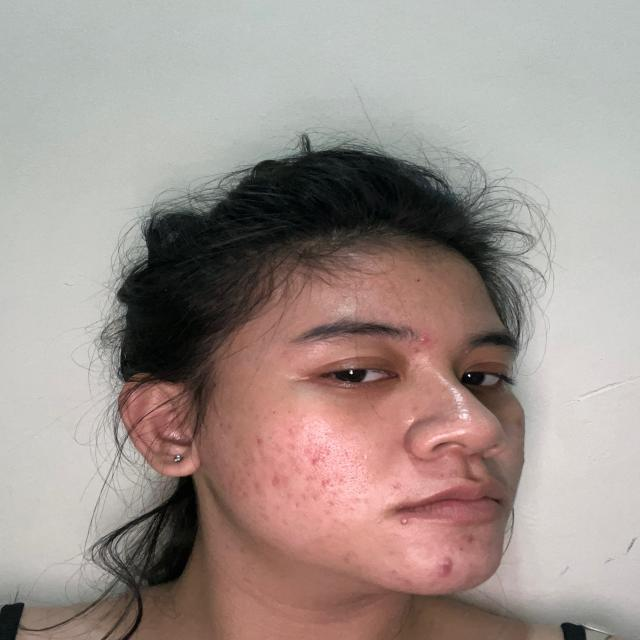Acne: (391, 568, 416, 588), (284, 491, 310, 508), (437, 555, 455, 578), (274, 442, 294, 456), (343, 549, 356, 565), (308, 456, 326, 467), (268, 474, 282, 488), (319, 477, 335, 488), (398, 516, 412, 526), (252, 436, 264, 447), (390, 481, 402, 492), (419, 334, 432, 344), (284, 426, 296, 436), (253, 478, 263, 490), (326, 499, 336, 509), (466, 532, 476, 542), (323, 447, 332, 458), (410, 347, 422, 355), (456, 300, 468, 308), (352, 496, 364, 504), (240, 460, 252, 467), (448, 471, 458, 479), (335, 476, 348, 482), (242, 490, 254, 496), (302, 474, 316, 479), (457, 546, 465, 554)
Englarged-Pores: (296, 419, 374, 506)
Eyebags: (291, 377, 406, 412)
